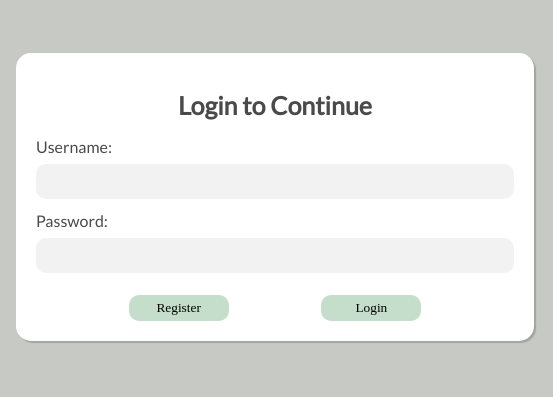
it: Login component › clicking register button shows registration form
Click the button "Register": (179, 308) [129,295,229,321]
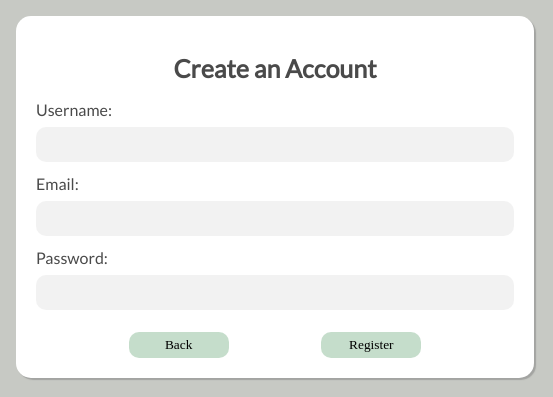
Result: the heading "Create an Account" is shown at [174,53,376,83]
